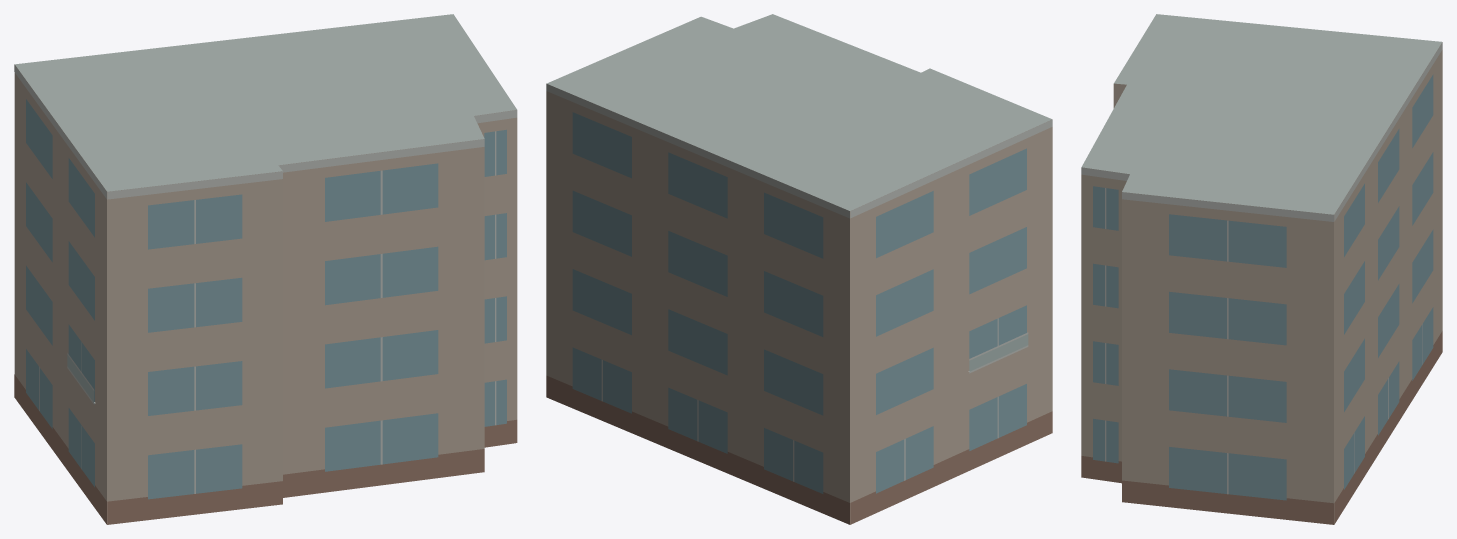
The model's file is survey-upis-32964790.glb.
3 views of the same model, side by side, from view 1: azimuth 30°, elevation 25°; view 2: azimuth 150°, elevation 25°; view 3: azimuth 270°, elevation 25° (orthographic). The views are drawn at different scales.
Visible parts, largest first — view 1: survey-upis-32964790.tmp; view 2: survey-upis-32964790.tmp; view 3: survey-upis-32964790.tmp.
Boxes of the visible parts, x1,y1,x2,y2 form: survey-upis-32964790.tmp: (14,14,517,524); survey-upis-32964790.tmp: (546,14,1052,524); survey-upis-32964790.tmp: (1081,14,1442,524).
Size of the model in its own units: 14.38 by 10.35 by 10.94.
